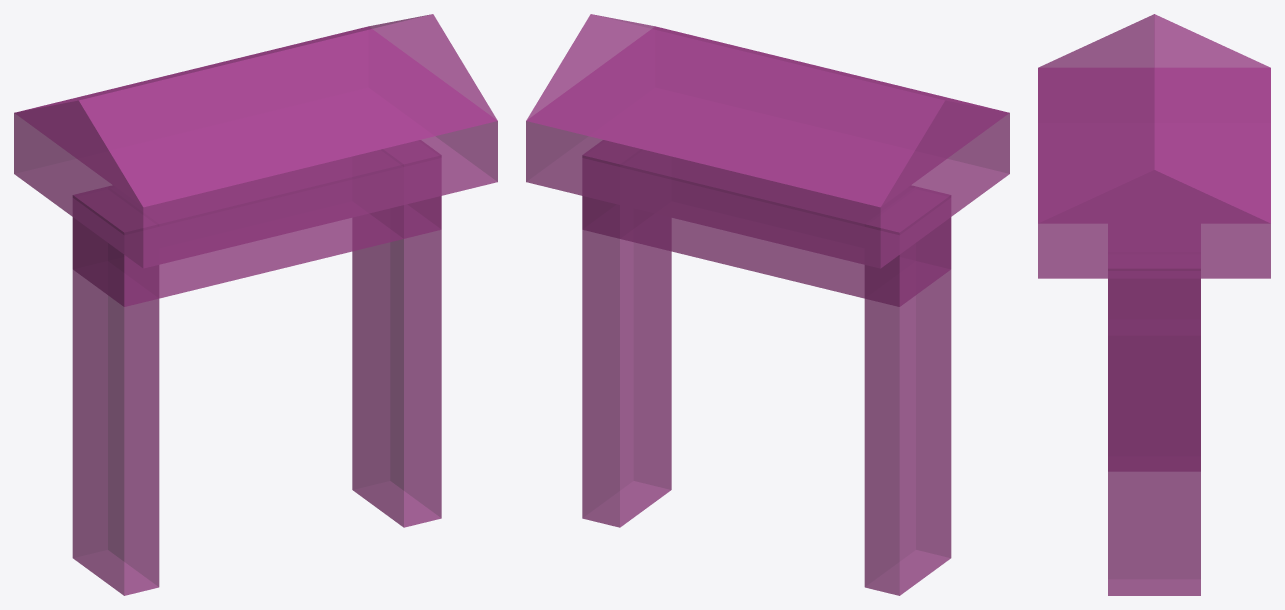
Rendered from SM_Bld_Gate_Dobei_02_Collision_01.fbx.
3 renders of one model, left to right at view 1: azimuth 30°, elevation 25°; view 2: azimuth 150°, elevation 25°; view 3: azimuth 270°, elevation 25°, orthographic. The views are drawn at different scales.
Visible parts, largest first — view 1: SM_Bld_Gate_Dobei_02_Collision_01; view 2: SM_Bld_Gate_Dobei_02_Collision_01; view 3: SM_Bld_Gate_Dobei_02_Collision_01.
Boxes of the visible parts, x1=… form: SM_Bld_Gate_Dobei_02_Collision_01: x1=14, y1=14, x2=497, y2=595; SM_Bld_Gate_Dobei_02_Collision_01: x1=526, y1=14, x2=1009, y2=595; SM_Bld_Gate_Dobei_02_Collision_01: x1=1038, y1=14, x2=1270, y2=595.
Bounding box in the file's own units: 313 × 406 × 197.
